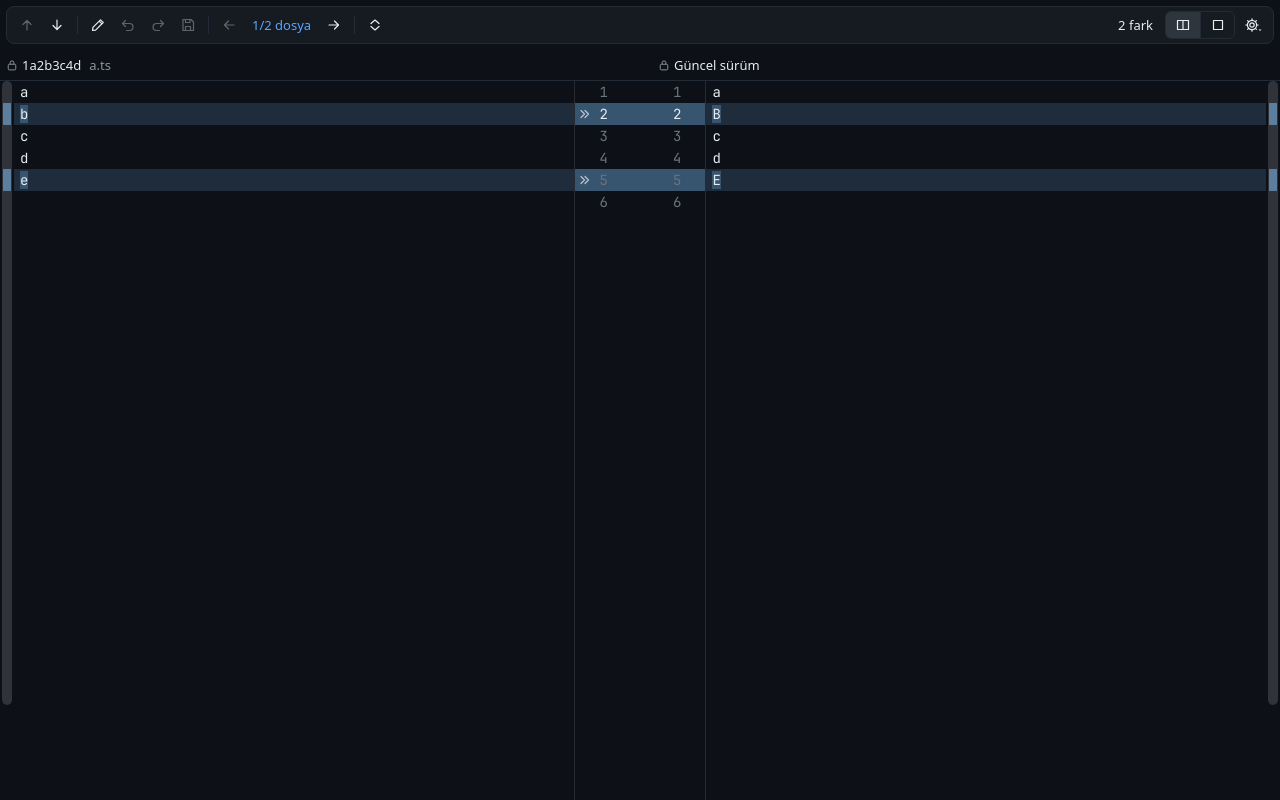
Test: tek fark penceresi › aynı dosyaya yeniden tıklamak pencereyi yerinde bırakıyor
Press F7
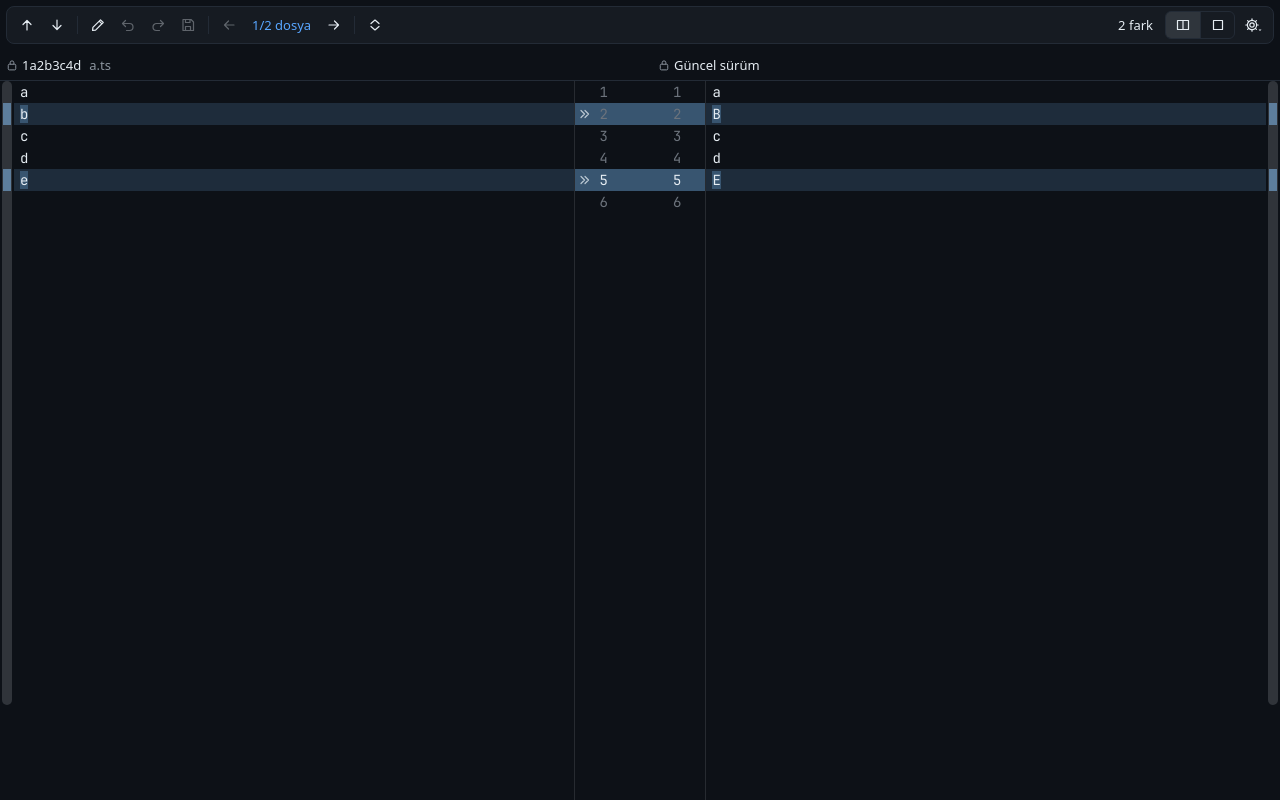
Click the button named "Ayarlar (Ctrl+Shift+D)". click: (1253, 25)
box: [1239,11,1267,39]
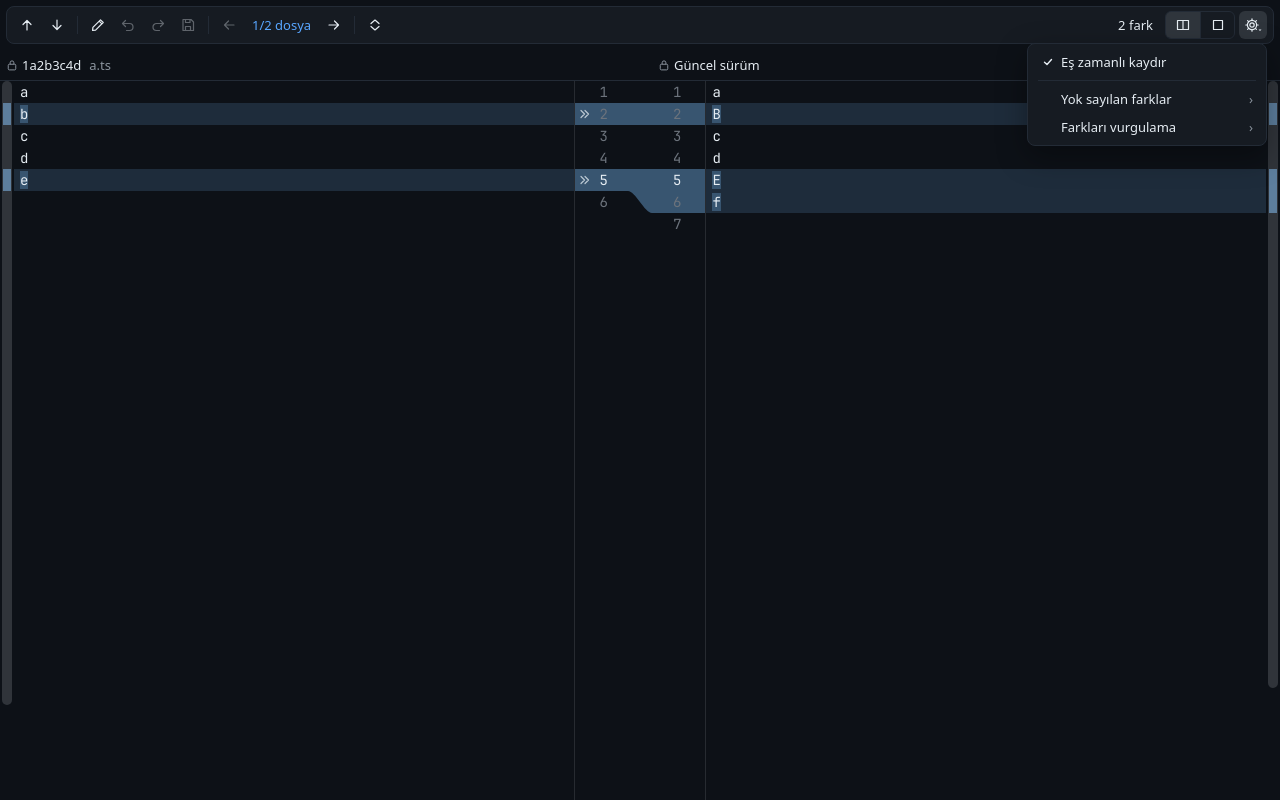
Now the menu with class "dw-menu" is shown, box [1027,43,1267,146]
